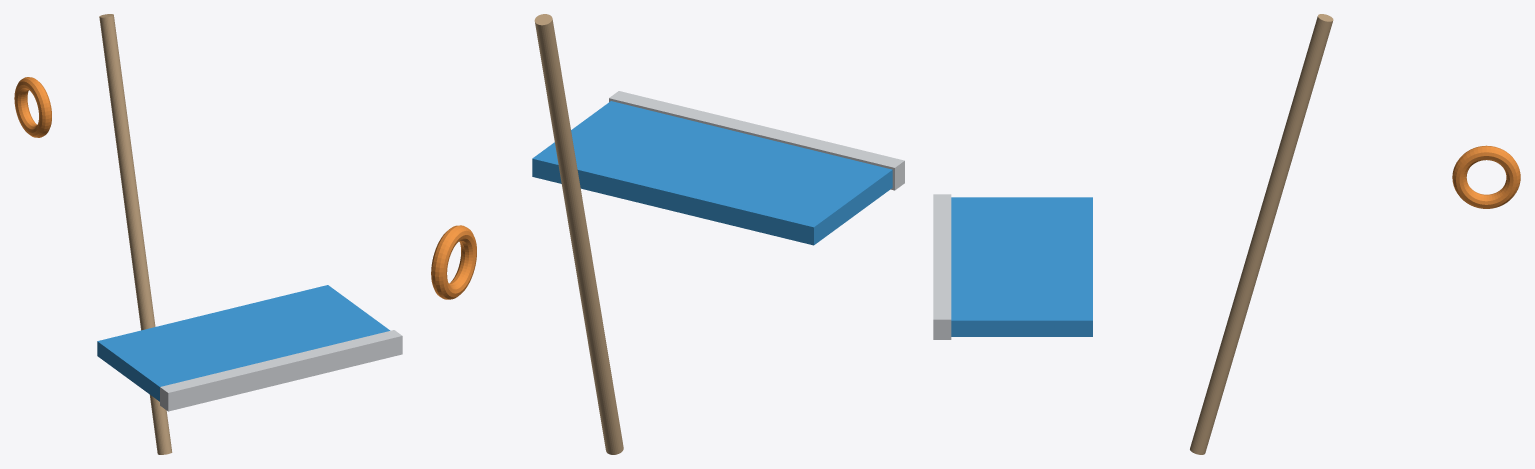
The model's file is snow_shovel.glb.
The picture shows the model from 3 angles, left to right: view 1: azimuth 30°, elevation 25°; view 2: azimuth 150°, elevation 25°; view 3: azimuth 270°, elevation 25°; orthographic projection. The views are drawn at different scales.
Parts seen in each view (by area): view 1: SnowShovel; view 2: SnowShovel; view 3: SnowShovel.
Part boxes in pixels (x1,y1,x2,y2): SnowShovel: (14,14,402,454); SnowShovel: (431,14,904,454); SnowShovel: (933,14,1520,454).
Size of the model in its own units: 0.66 by 1.07 by 1.31.
